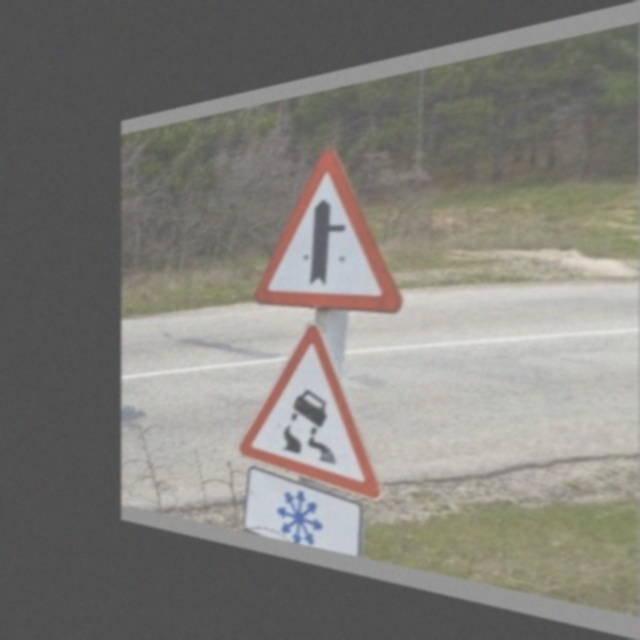Slippery_Road: (240, 321, 392, 488)
